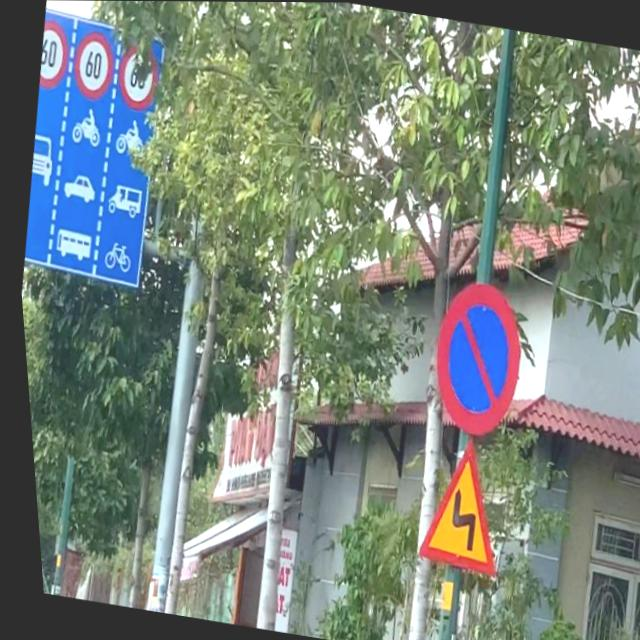Cam do xe: (413, 264, 538, 446)
Nhieu cho ngoat lien tiep ben trai: (397, 420, 512, 581)
Toc do toi da cho phep: (64, 15, 124, 105), (33, 13, 79, 97)
